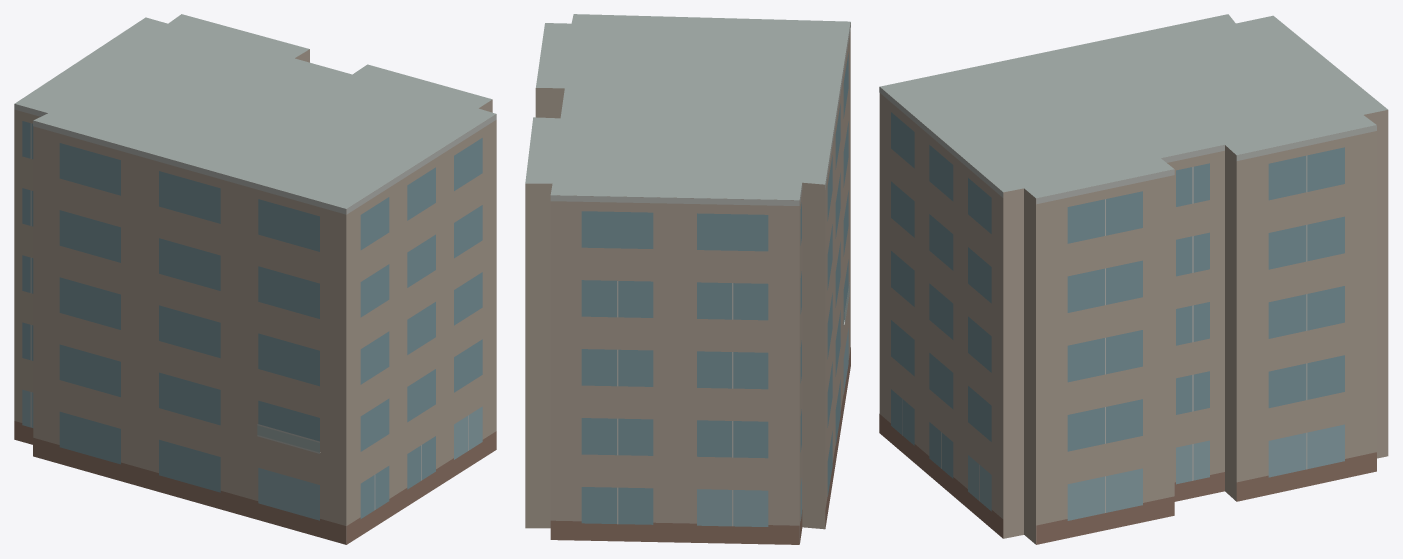
Rendered from survey-upis-32840105.glb.
3 renders of one model, left to right at view 1: azimuth 30°, elevation 25°; view 2: azimuth 150°, elevation 25°; view 3: azimuth 270°, elevation 25°, orthographic. The views are drawn at different scales.
Visible parts, largest first — view 1: survey-upis-32840105.tmp; view 2: survey-upis-32840105.tmp; view 3: survey-upis-32840105.tmp.
Boxes of the visible parts, left/top/right/bottom form: survey-upis-32840105.tmp: left=14, top=14, right=496, bottom=544; survey-upis-32840105.tmp: left=525, top=14, right=850, bottom=544; survey-upis-32840105.tmp: left=879, top=14, right=1388, bottom=544.
Bounding box in the file's own units: 16.28 × 14.25 × 18.97.
